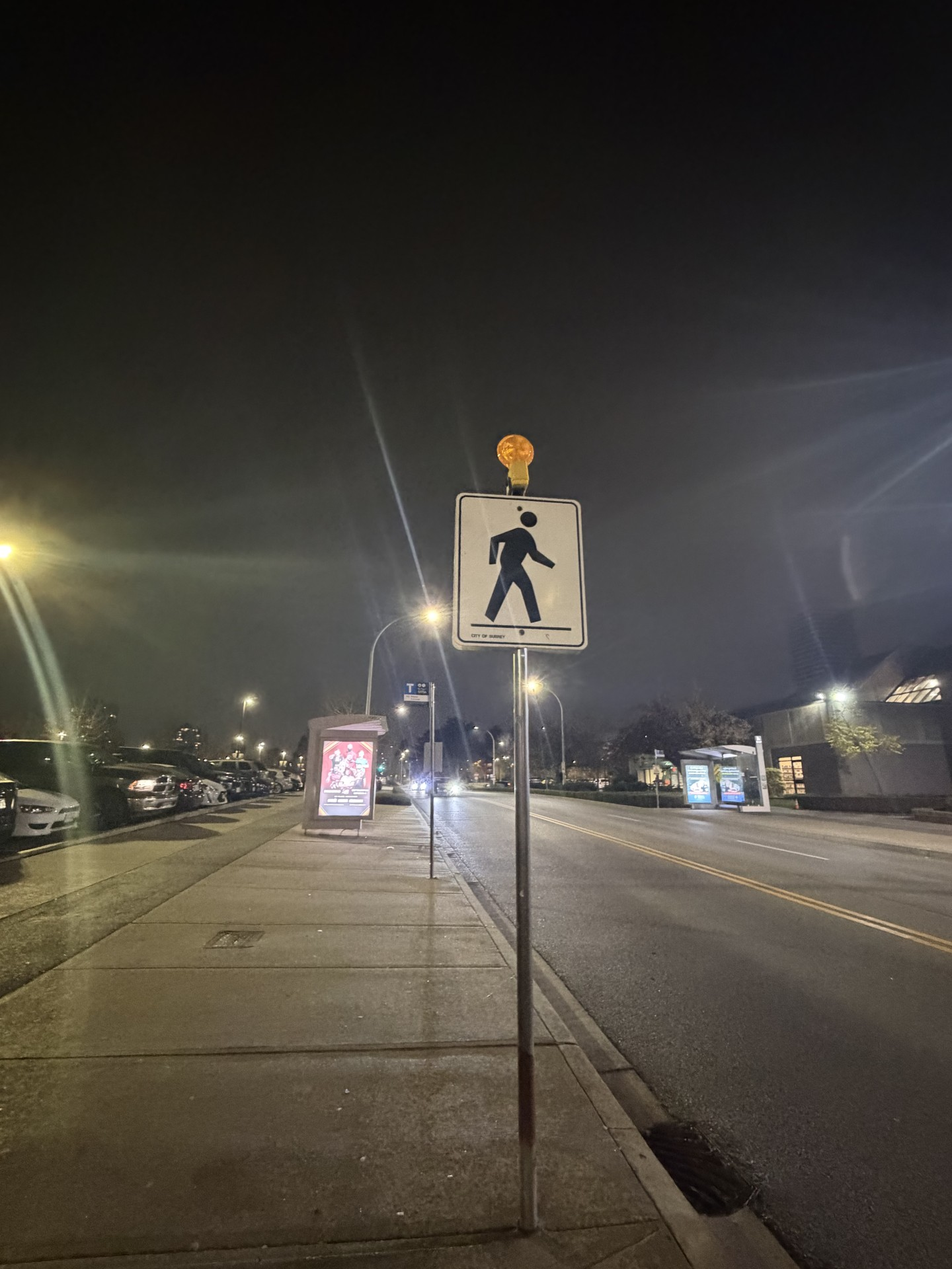pedestrian_crossing: (388, 351, 636, 746)
